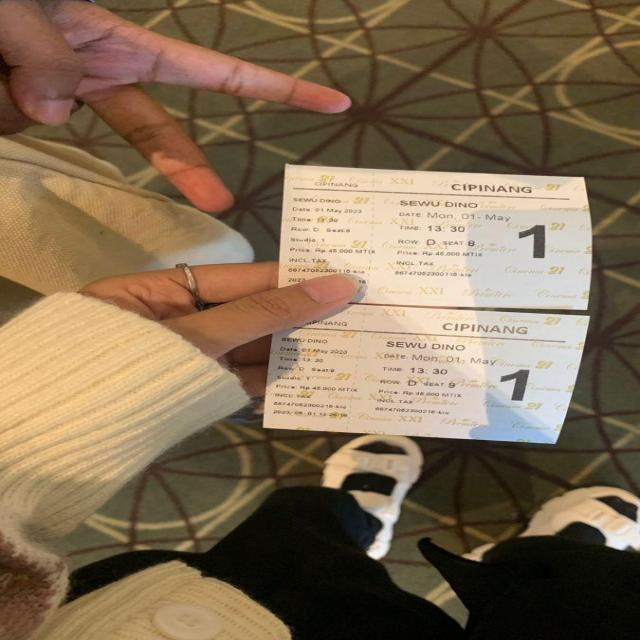date: (290, 204, 370, 216)
store: (449, 182, 542, 194)
total: (395, 250, 490, 258)
